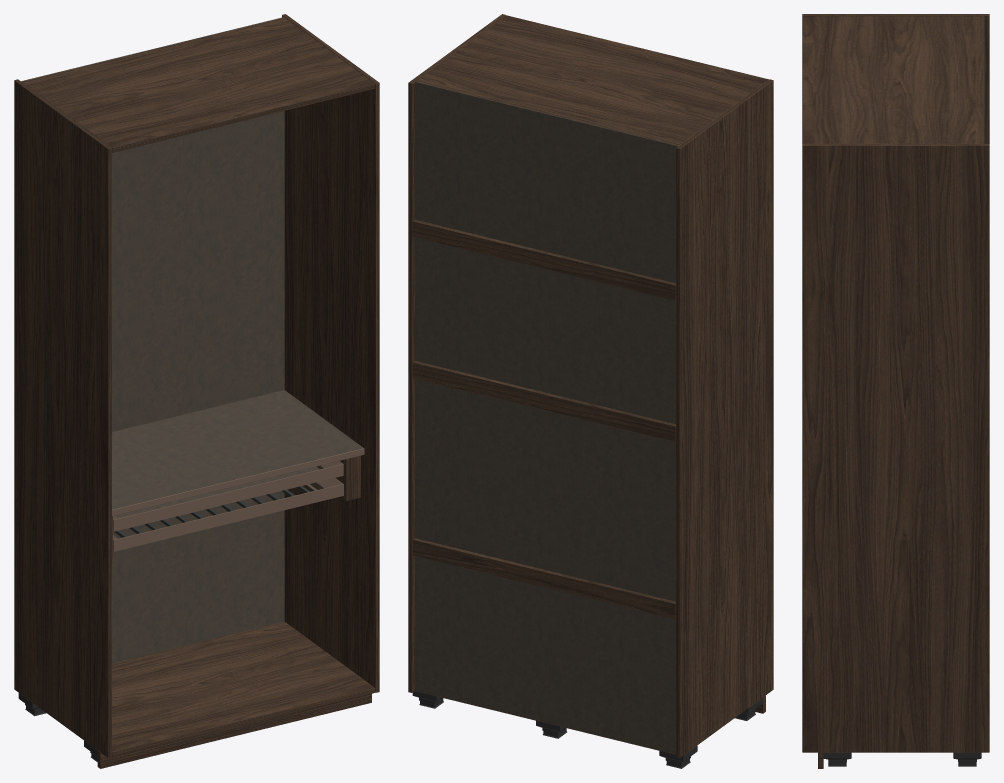
3 renders of one model, left to right at view 1: azimuth 30°, elevation 25°; view 2: azimuth 150°, elevation 25°; view 3: azimuth 270°, elevation 25°, orthographic.
Parts seen in each view (by area): view 1: HK1001085, BONG_01; view 2: HK1001085; view 3: HK1001085.
Part boxes in pixels (x1,y1,x2,y2): HK1001085: (14, 14, 379, 768); BONG_01: (112, 448, 364, 551); HK1001085: (408, 14, 773, 768); HK1001085: (802, 14, 989, 768).
Size of the model in its own units: 1 by 2.2 by 0.6.
8 materials, 7 textured.
